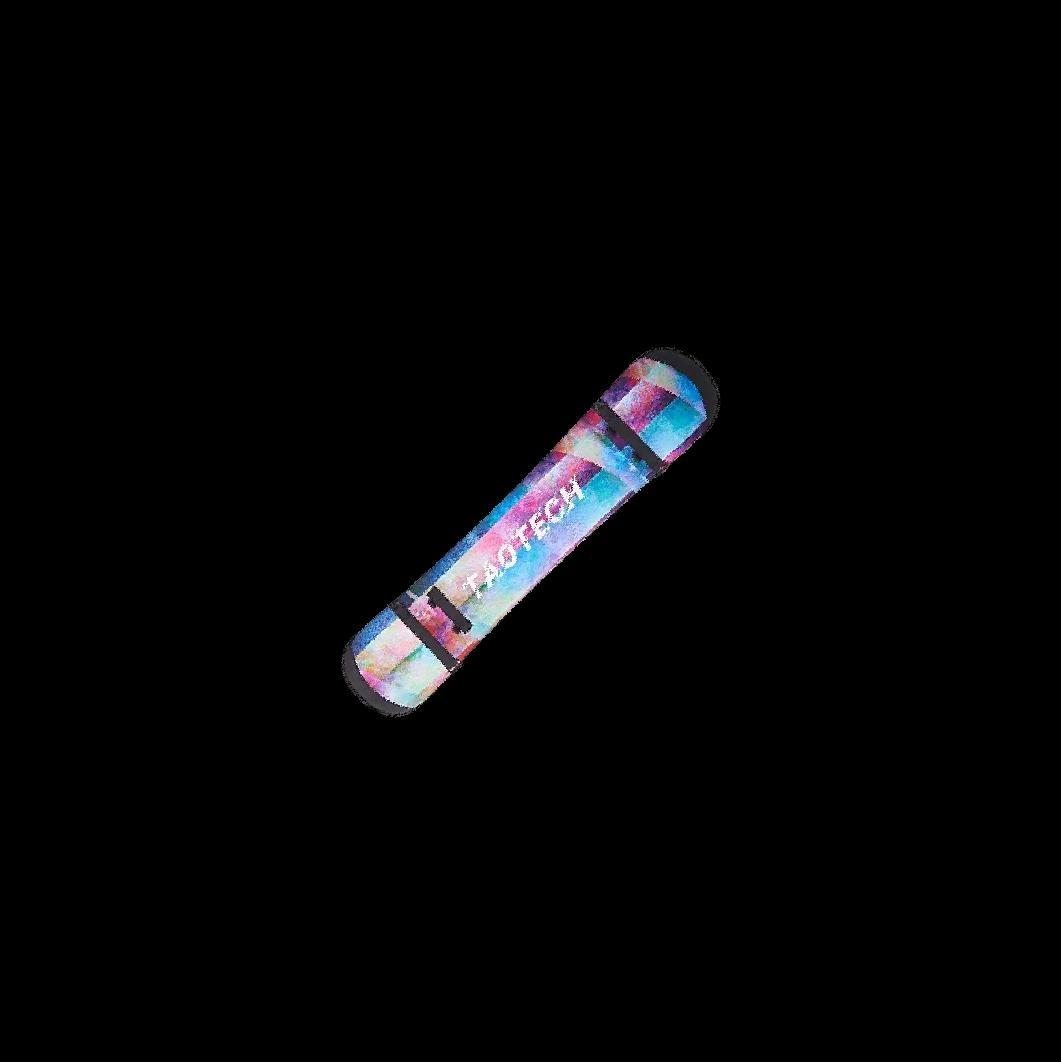Snowboard: (306, 338, 748, 751)
